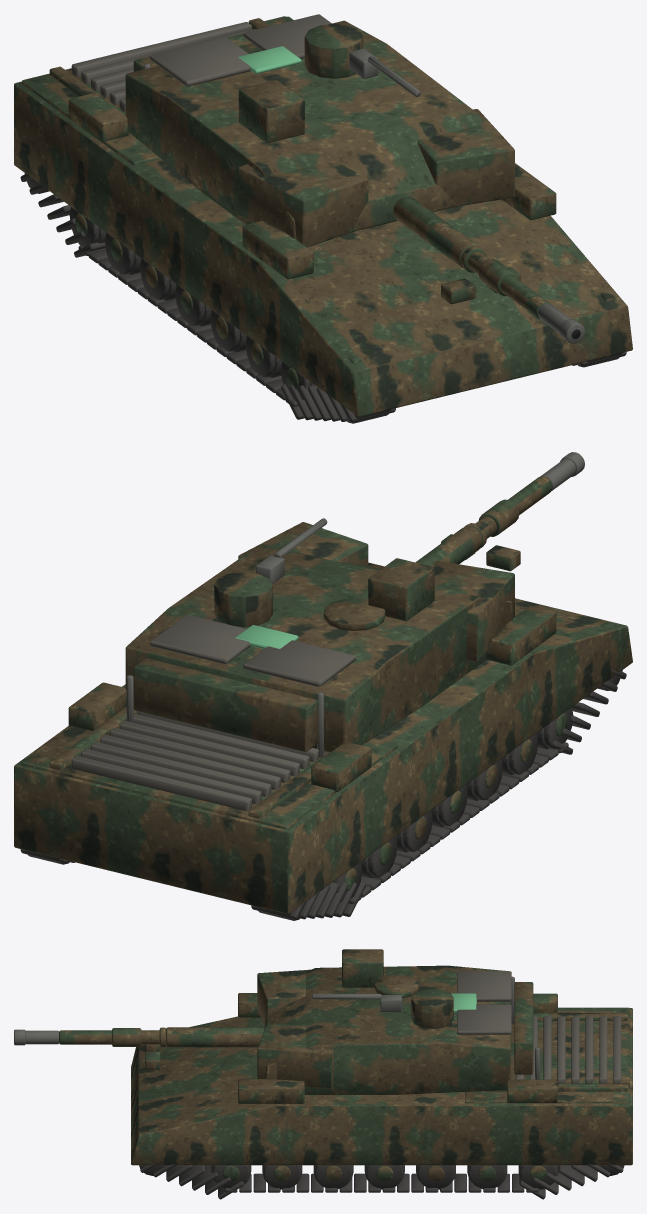
Rendered from mbt_e4_tw_m1a2t_LOD0.glb.
3 renders of one model, top to bottom at view 1: azimuth 30°, elevation 25°; view 2: azimuth 150°, elevation 25°; view 3: azimuth 270°, elevation 25°, orthographic. The views are drawn at different scales.
Parts seen in each view (by area): view 1: mbt_e4_tw_m1a2t_LOD0_body, mbt_e4_tw_m1a2t_LOD0_track, mbt_e4_tw_m1a2t_LOD0_deck, mbt_e4_tw_m1a2t_LOD0_gun, mbt_e4_tw_m1a2t_LOD0_team; view 2: mbt_e4_tw_m1a2t_LOD0_body, mbt_e4_tw_m1a2t_LOD0_deck, mbt_e4_tw_m1a2t_LOD0_track, mbt_e4_tw_m1a2t_LOD0_gun, mbt_e4_tw_m1a2t_LOD0_team; view 3: mbt_e4_tw_m1a2t_LOD0_body, mbt_e4_tw_m1a2t_LOD0_track, mbt_e4_tw_m1a2t_LOD0_deck, mbt_e4_tw_m1a2t_LOD0_gun, mbt_e4_tw_m1a2t_LOD0_team.
Boxes of the visible parts, box(x1,y1,x2,y2) form: mbt_e4_tw_m1a2t_LOD0_body: box(14, 16, 632, 416); mbt_e4_tw_m1a2t_LOD0_track: box(20, 173, 626, 423); mbt_e4_tw_m1a2t_LOD0_deck: box(71, 14, 331, 111); mbt_e4_tw_m1a2t_LOD0_gun: box(143, 48, 584, 343); mbt_e4_tw_m1a2t_LOD0_team: box(238, 46, 301, 73); mbt_e4_tw_m1a2t_LOD0_body: box(14, 476, 632, 914); mbt_e4_tw_m1a2t_LOD0_deck: box(71, 614, 356, 810); mbt_e4_tw_m1a2t_LOD0_track: box(20, 669, 626, 920); mbt_e4_tw_m1a2t_LOD0_gun: box(126, 452, 584, 757); mbt_e4_tw_m1a2t_LOD0_team: box(235, 625, 298, 648); mbt_e4_tw_m1a2t_LOD0_body: box(59, 949, 632, 1181); mbt_e4_tw_m1a2t_LOD0_track: box(139, 1160, 624, 1199); mbt_e4_tw_m1a2t_LOD0_deck: box(457, 971, 621, 1083); mbt_e4_tw_m1a2t_LOD0_gun: box(14, 976, 539, 1079); mbt_e4_tw_m1a2t_LOD0_team: box(451, 993, 476, 1012).
Size of the model in its own units: 3.66 by 3.02 by 9.77.
6 materials, 1 textured.
